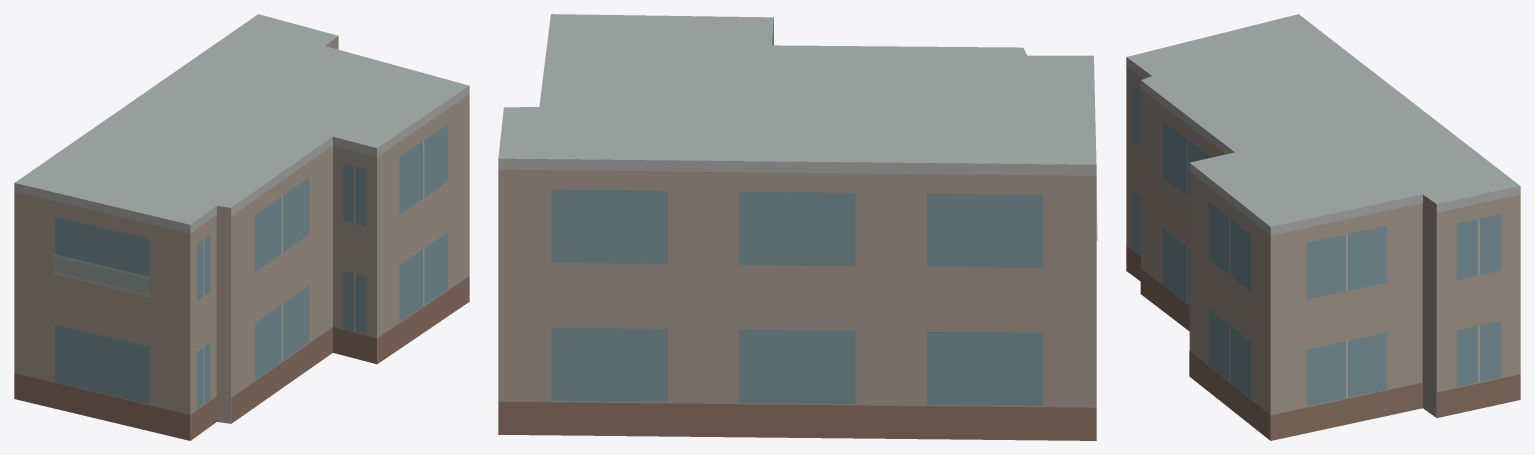
Rendered from survey-upis-32789175.glb.
The picture shows the model from 3 angles, left to right: view 1: azimuth 30°, elevation 25°; view 2: azimuth 150°, elevation 25°; view 3: azimuth 270°, elevation 25°; orthographic projection. The views are drawn at different scales.
Visible parts, largest first — view 1: survey-upis-32789175.tmp; view 2: survey-upis-32789175.tmp; view 3: survey-upis-32789175.tmp.
Part boxes in pixels (x1,y1,x2,y2): survey-upis-32789175.tmp: (14,14,469,440); survey-upis-32789175.tmp: (498,14,1097,440); survey-upis-32789175.tmp: (1126,14,1520,440).
Bounding box in the file's own units: 13.04 × 6.1 × 10.2.
